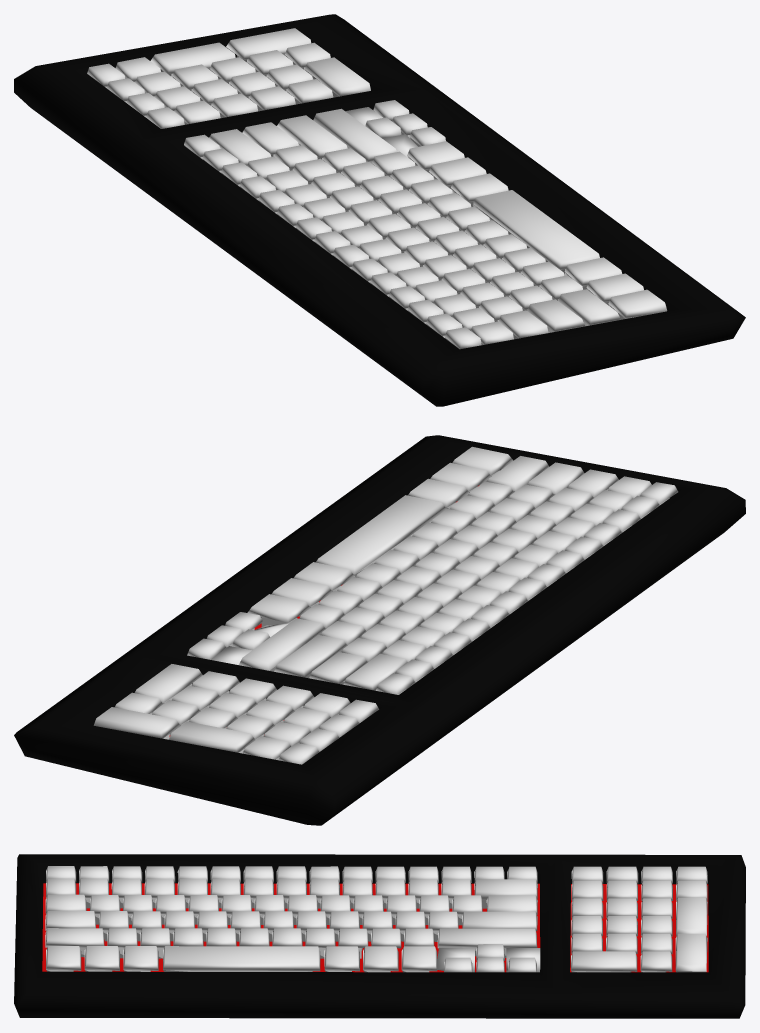
The model's file is keyboard.fbx.
3 renders of one model, top to bottom at view 1: azimuth 30°, elevation 25°; view 2: azimuth 150°, elevation 25°; view 3: azimuth 270°, elevation 25°, orthographic. The views are drawn at different scales.
Visible parts, largest first — view 1: Box138, Box247, Box225, Box165, Box211, Box164, Box163, Box224, Box246, Box210, Box183, Box243 (+43 smaller); view 2: Box138, Box247, Box225, Box163, Box164, Box211, Box165, Box241, Box183, Box224, Box197, Box244 (+42 smaller); view 3: Box138, Box247, Box225, Box165, Box211, Box163, Box164, Box183, Box224, Box241, Box242, Box243 (+91 smaller).
Boxes of the visible parts, left/top/right/bottom form: Box138: left=14, top=14, right=745, bottom=406; Box247: left=473, top=190, right=599, bottom=275; Box225: left=313, top=108, right=396, bottom=163; Box165: left=304, top=57, right=370, bottom=97; Box211: left=277, top=115, right=347, bottom=159; Box164: left=150, top=42, right=235, bottom=77; Box163: left=226, top=28, right=311, bottom=62; Box224: left=558, top=289, right=620, bottom=326; Box246: left=608, top=289, right=667, bottom=319; Box210: left=527, top=299, right=584, bottom=332; Box183: left=209, top=129, right=271, bottom=165; Box243: left=451, top=173, right=508, bottom=206; Box138: left=14, top=435, right=745, bottom=825; Box247: left=315, top=495, right=446, bottom=577; Box225: left=239, top=618, right=325, bottom=671; Box163: left=93, top=707, right=180, bottom=739; Box164: left=169, top=721, right=255, bottom=753; Box211: left=274, top=634, right=347, bottom=678; Box165: left=134, top=664, right=202, bottom=712; Box241: left=247, top=594, right=310, bottom=626; Box183: left=343, top=653, right=407, bottom=690; Box224: left=487, top=456, right=549, bottom=498; Box197: left=309, top=652, right=367, bottom=684; Box244: left=408, top=478, right=469, bottom=508; Box138: left=14, top=854, right=745, bottom=1018; Box247: left=163, top=946, right=320, bottom=971; Box225: left=437, top=928, right=537, bottom=957; Box165: left=571, top=951, right=637, bottom=972; Box211: left=462, top=911, right=537, bottom=931; Box163: left=675, top=933, right=707, bottom=972; Box164: left=676, top=897, right=707, bottom=935; Box183: left=474, top=879, right=537, bottom=908; Box224: left=45, top=928, right=104, bottom=957; Box241: left=401, top=946, right=437, bottom=972; Box242: left=363, top=946, right=398, bottom=972; Box243: left=324, top=946, right=359, bottom=971.
Bounding box in the file's own units: 17.69 × 2.6 × 39.07.
